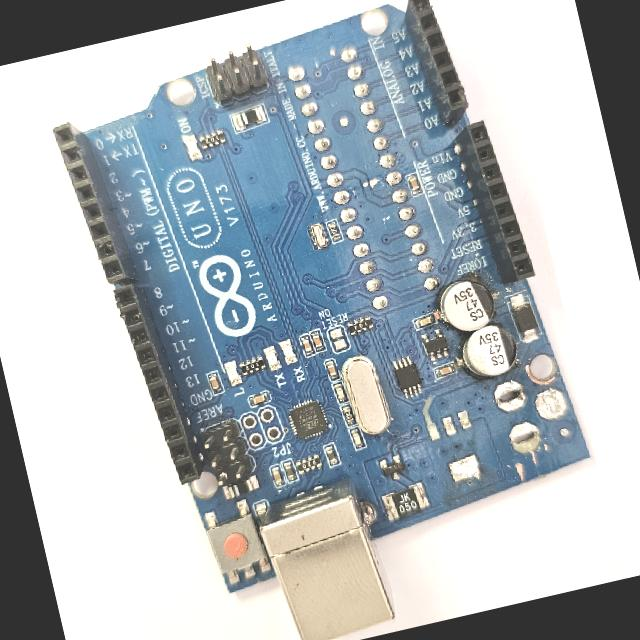missing_atmega: (281, 35, 451, 317)
missing_eps: (485, 367, 568, 463)
missing_voltage_reg: (419, 400, 499, 497)
